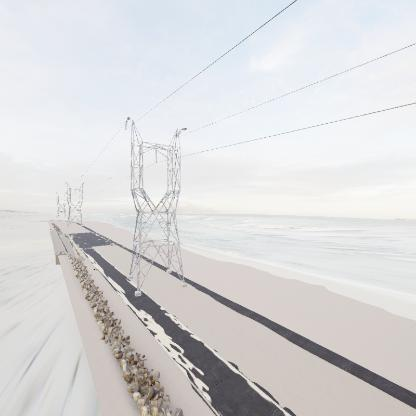tower: (123, 112, 192, 303), (64, 178, 86, 229)
